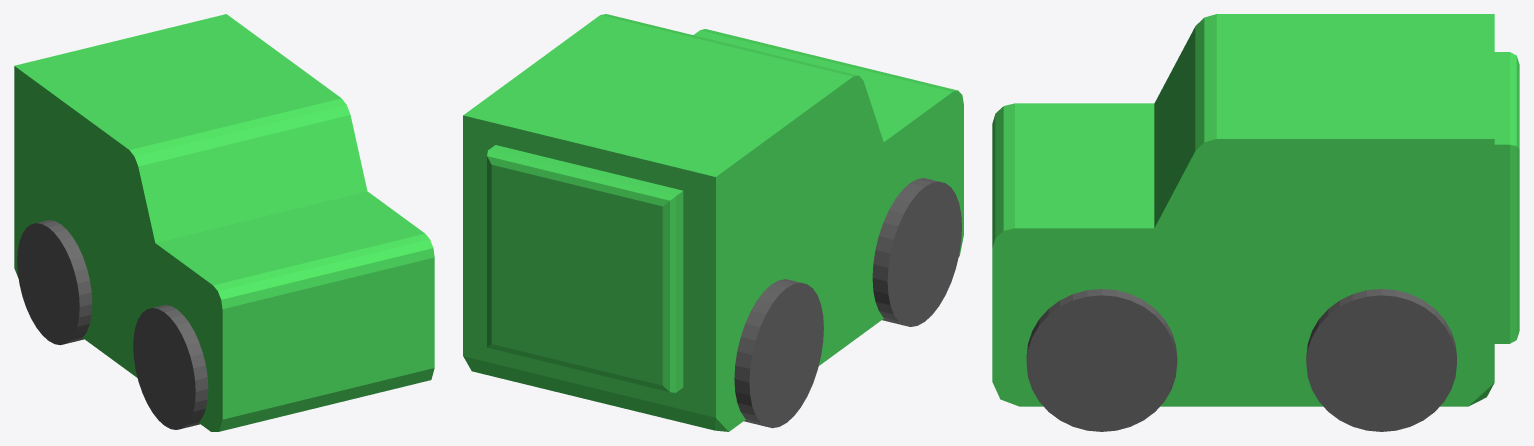
Rendered from Jeep.fbx.
The picture shows the model from 3 angles, left to right: view 1: azimuth 30°, elevation 25°; view 2: azimuth 150°, elevation 25°; view 3: azimuth 270°, elevation 25°; orthographic projection. The views are drawn at different scales.
Visible parts, largest first — view 1: Jeep; view 2: Jeep; view 3: Jeep.
Part boxes in pixels (box(x1,y1,x2,y2)): Jeep: box(14, 14, 434, 431); Jeep: box(463, 14, 963, 431); Jeep: box(992, 14, 1519, 431).
Size of the model in its own units: 222 by 214 by 357.
